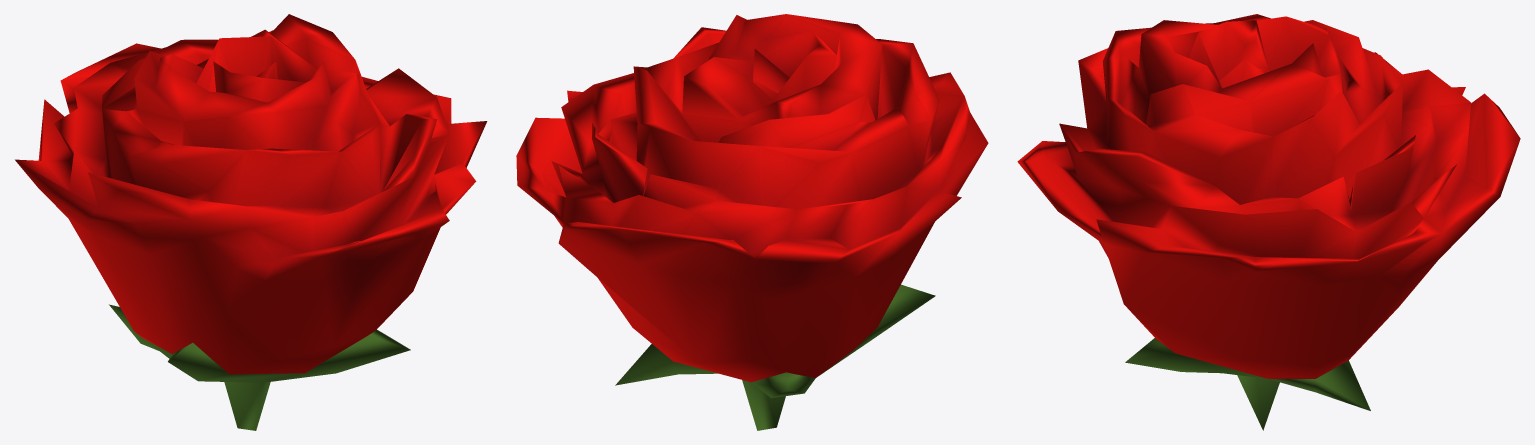
File: minirose1.fbx
The picture shows the model from 3 angles, left to right: view 1: azimuth 30°, elevation 25°; view 2: azimuth 150°, elevation 25°; view 3: azimuth 270°, elevation 25°; orthographic projection.
Visible parts, largest first — view 1: minirose1; view 2: minirose1; view 3: minirose1.
Boxes of the visible parts, <box> form: minirose1: <box>15,14,487,430</box>; minirose1: <box>516,14,988,430</box>; minirose1: <box>1017,14,1520,430</box>.
Size of the model in its own units: 0.7454 by 0.6468 by 0.7605.
